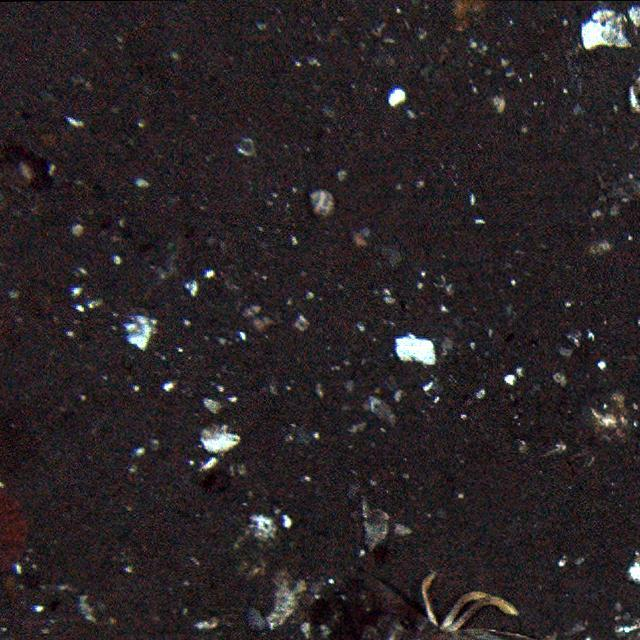whelk: (307, 188, 338, 218)
